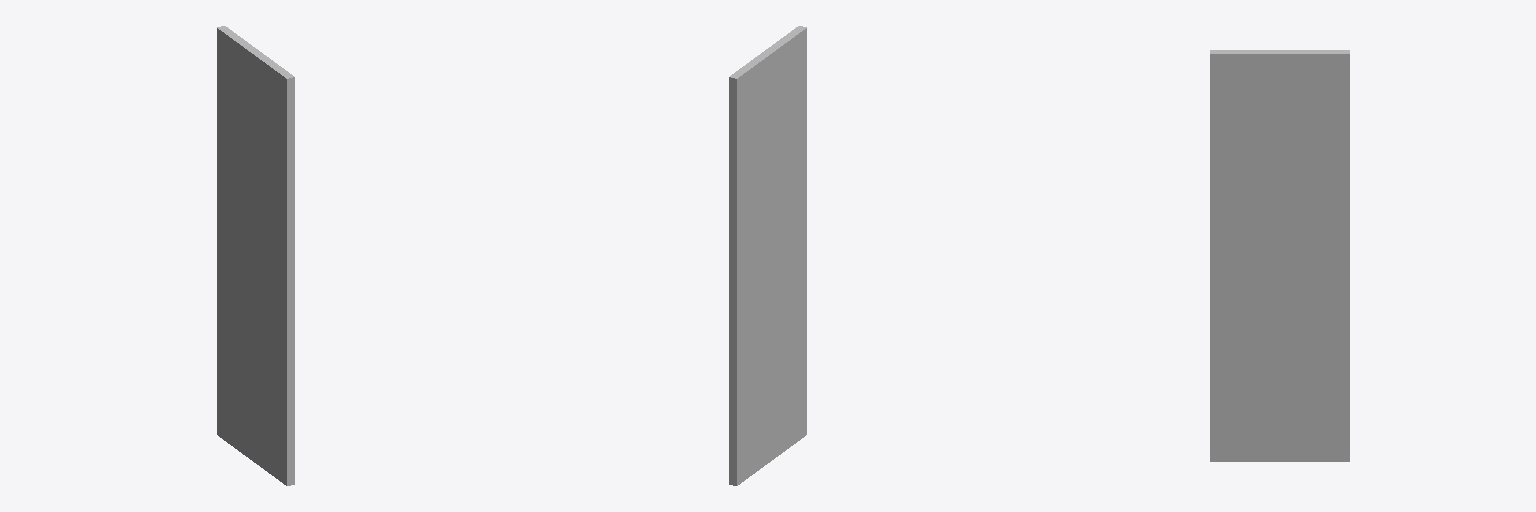
File: Elevator Door.obj
3 views of the same model, side by side, from view 1: azimuth 30°, elevation 25°; view 2: azimuth 150°, elevation 25°; view 3: azimuth 270°, elevation 25° (orthographic).
Visible parts, largest first — view 1: ElevatorDoor; view 2: ElevatorDoor; view 3: ElevatorDoor.
Boxes of the visible parts, x1=… form: ElevatorDoor: x1=217, y1=26, x2=294, y2=485; ElevatorDoor: x1=729, y1=26, x2=806, y2=485; ElevatorDoor: x1=1210, y1=50, x2=1349, y2=461.
Size of the model in its own units: 2 by 96 by 30.